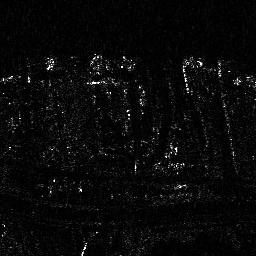ship: (179, 55, 234, 73), (82, 54, 141, 70), (22, 55, 80, 69)
